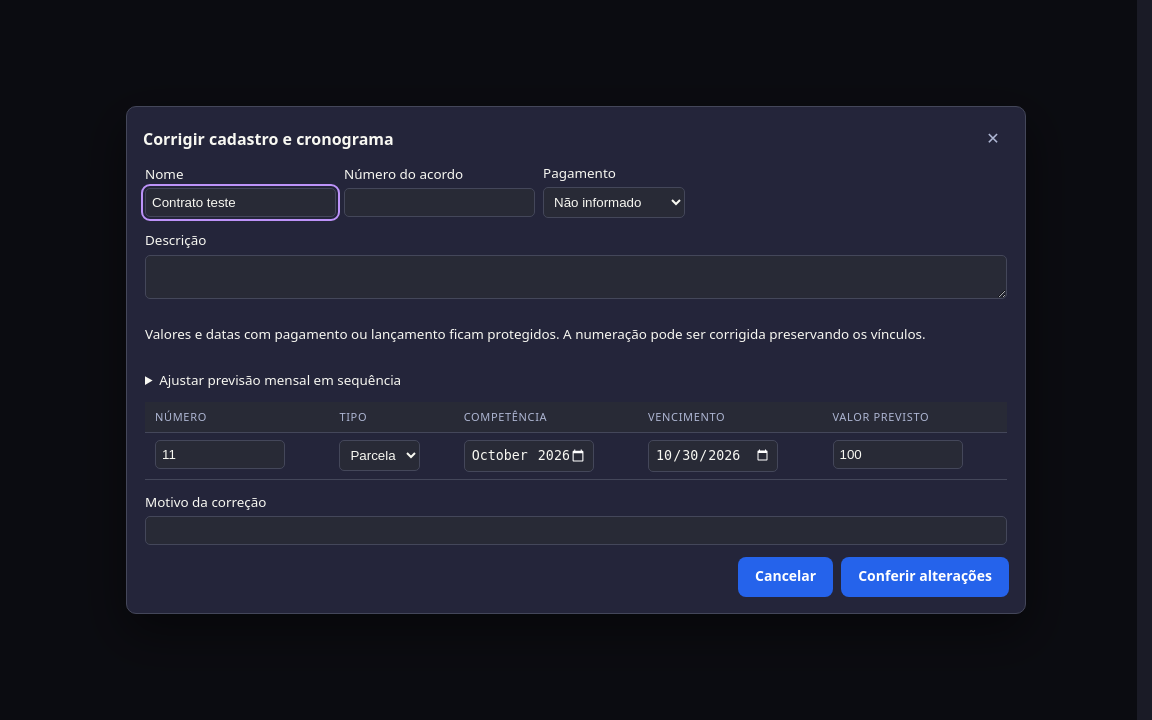
it: editar depois de conferir exige nova prévia
Type "Correção do cadastro" into the field labelled "Motivo da correção" at (576, 530), box [145,516,1007,545]
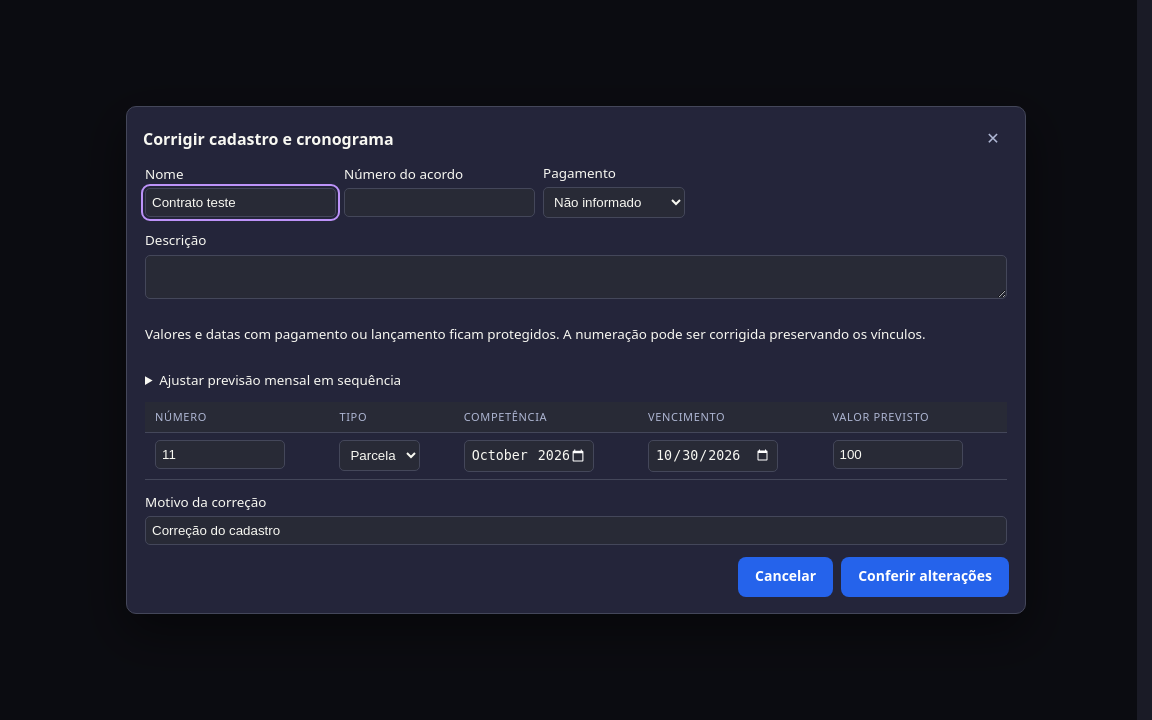
Click the button "Conferir alterações" at (925, 577), box [841,557,1009,597]
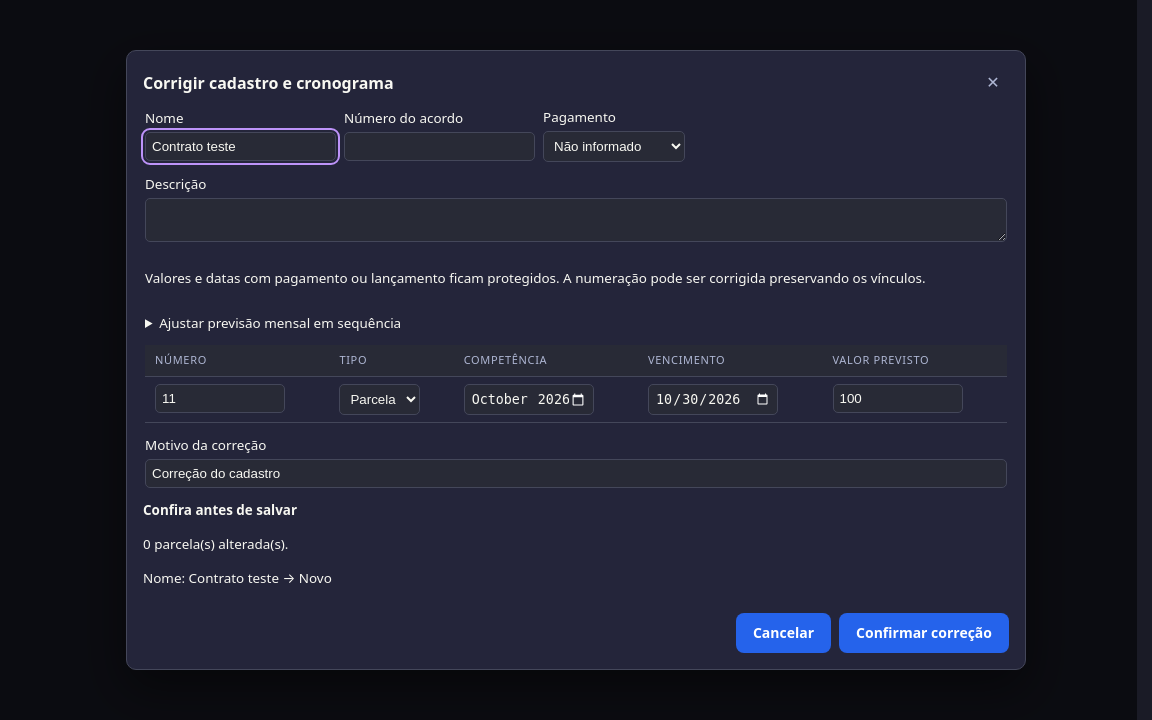
Result: the button "Confirmar correção" is shown at [839,613,1009,653]
Replace the text in the field labelled "Nome" with "Outro nome" at (240, 146), box [145,132,336,161]
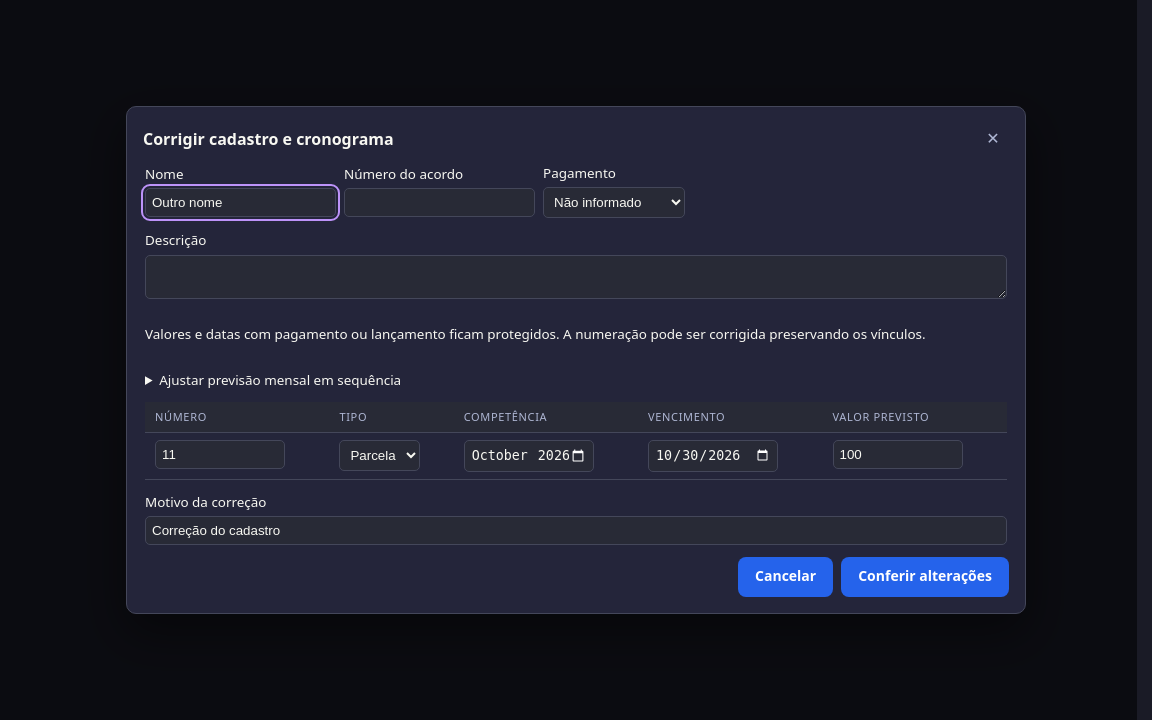
Result: the button "Confirmar correção" is gone
Result: the button "Conferir alterações" is shown at [841,557,1009,597]
